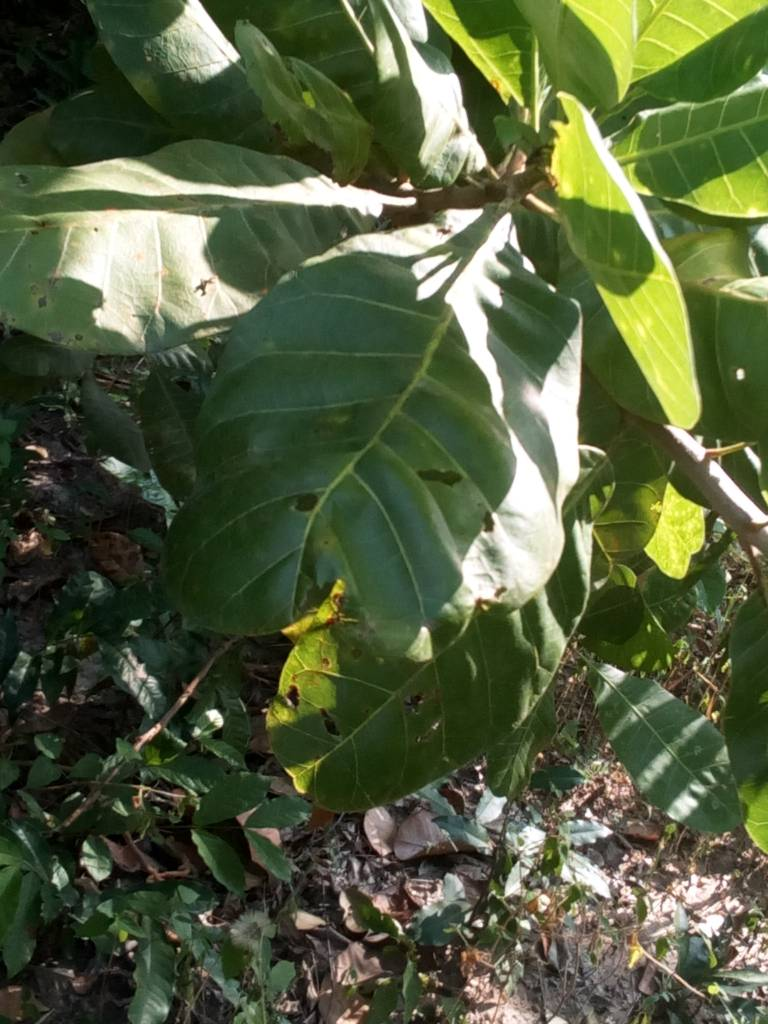Anoplonemis curvipes: (150, 183, 605, 675)
